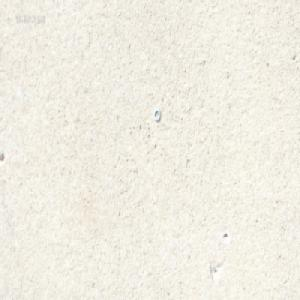Washer: (153, 107, 160, 121)
